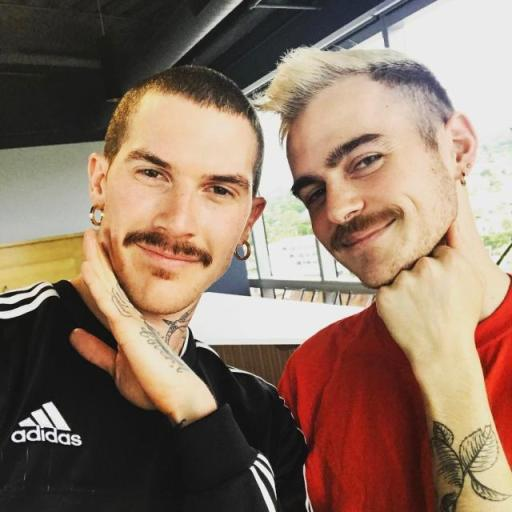Adidas: (8, 399, 84, 449)
